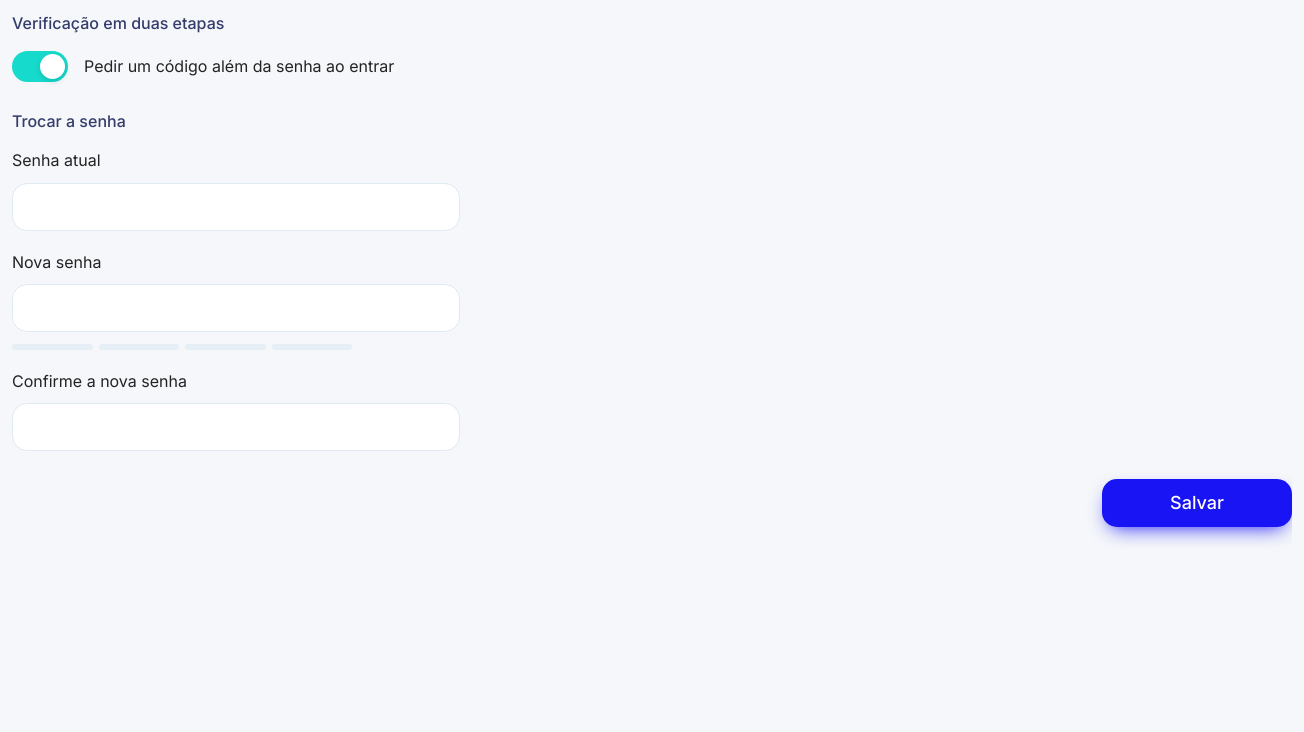
it: troca aceita apaga os campos e confirma
Type "antiga1" into the password field labelled "Senha atual" at (236, 207), box [12,183,460,231]
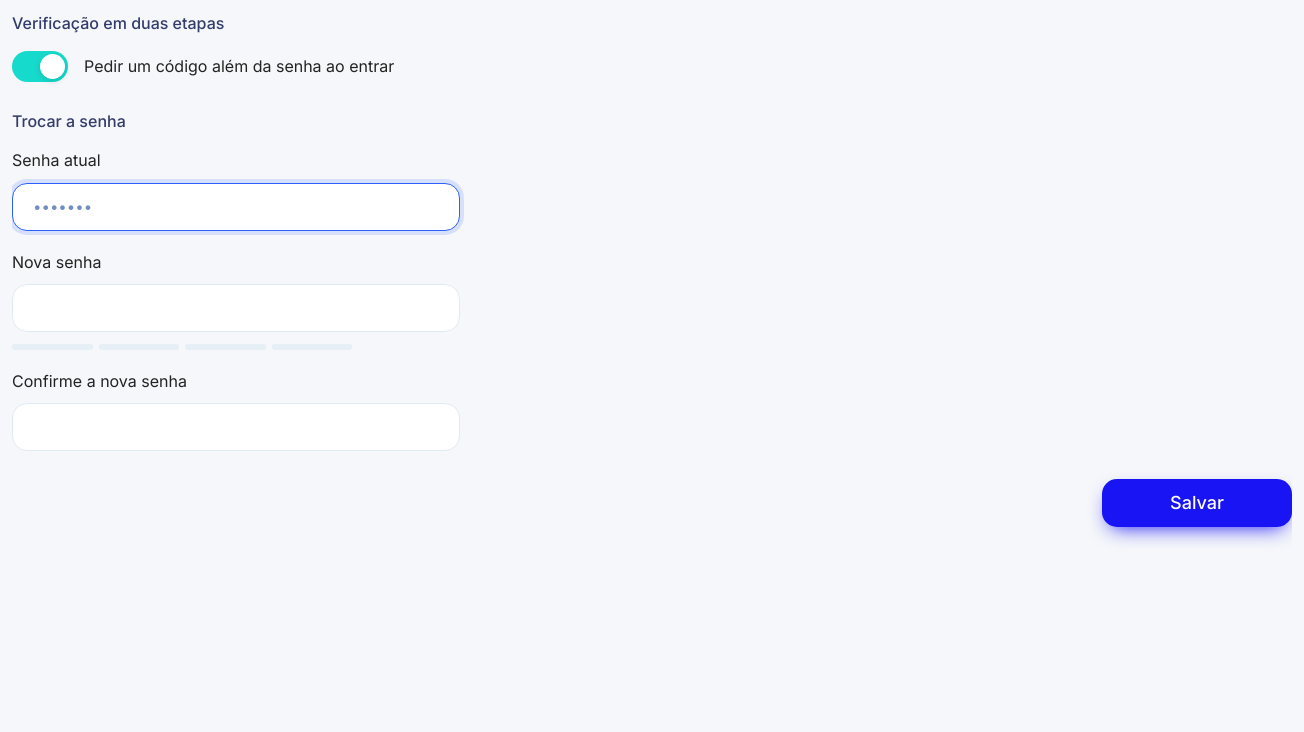
Type "Casaverde1" into the password field labelled "Nova senha" at (236, 308), box [12,284,460,332]
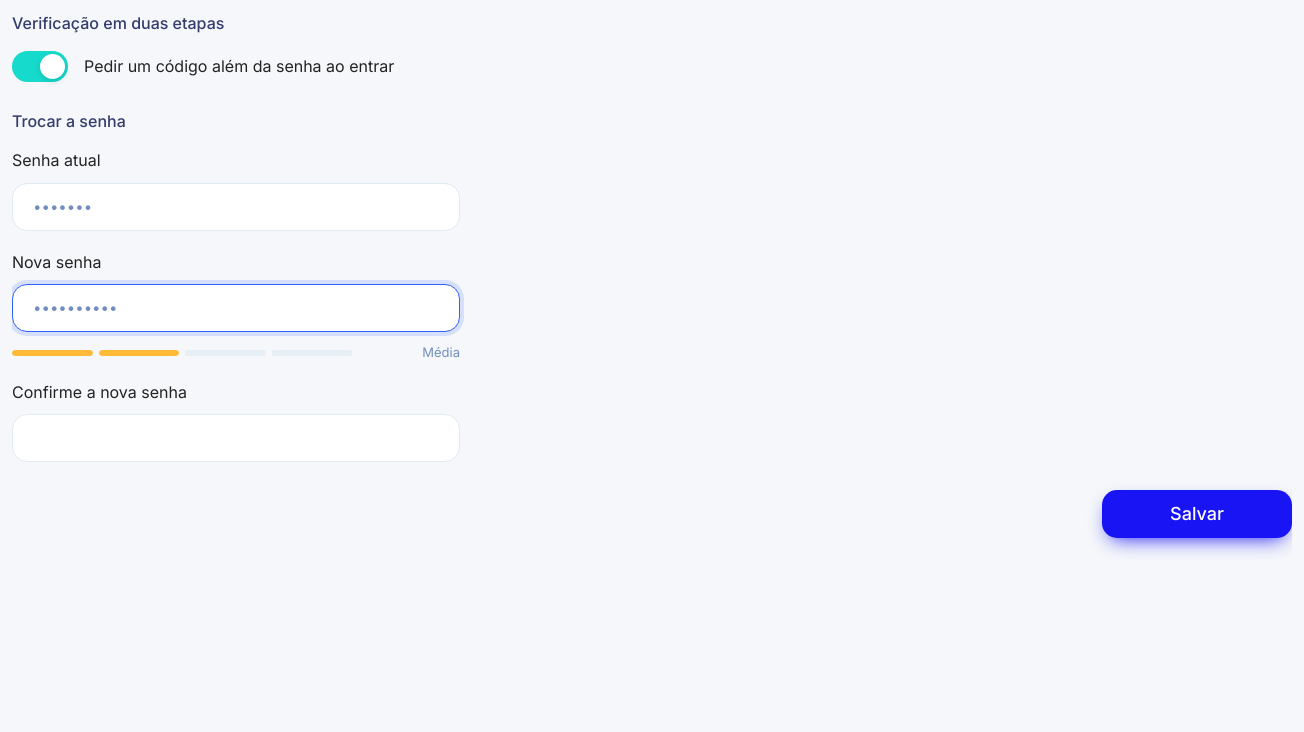
Type "Casaverde1" into the password field labelled "Confirme a nova senha" at (236, 438), box [12,414,460,462]
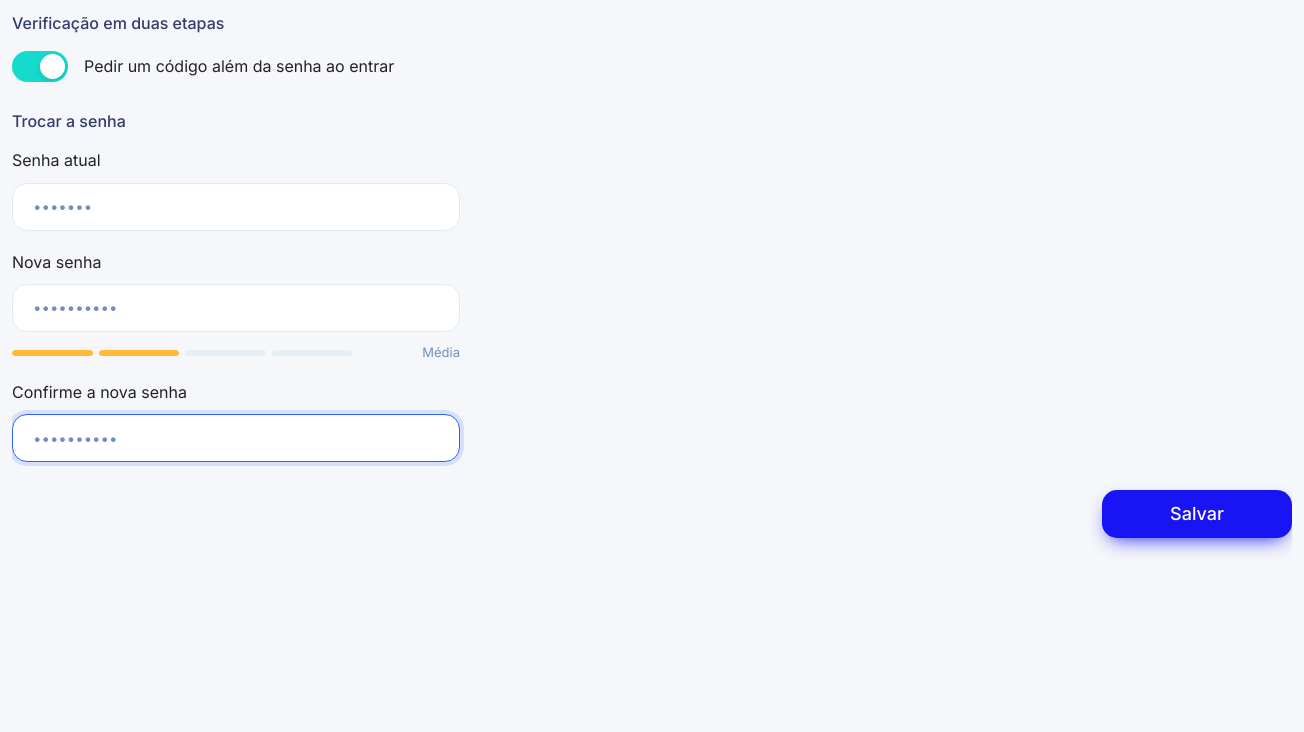
Click the button "Salvar" at (1197, 514), box [1102,490,1292,538]
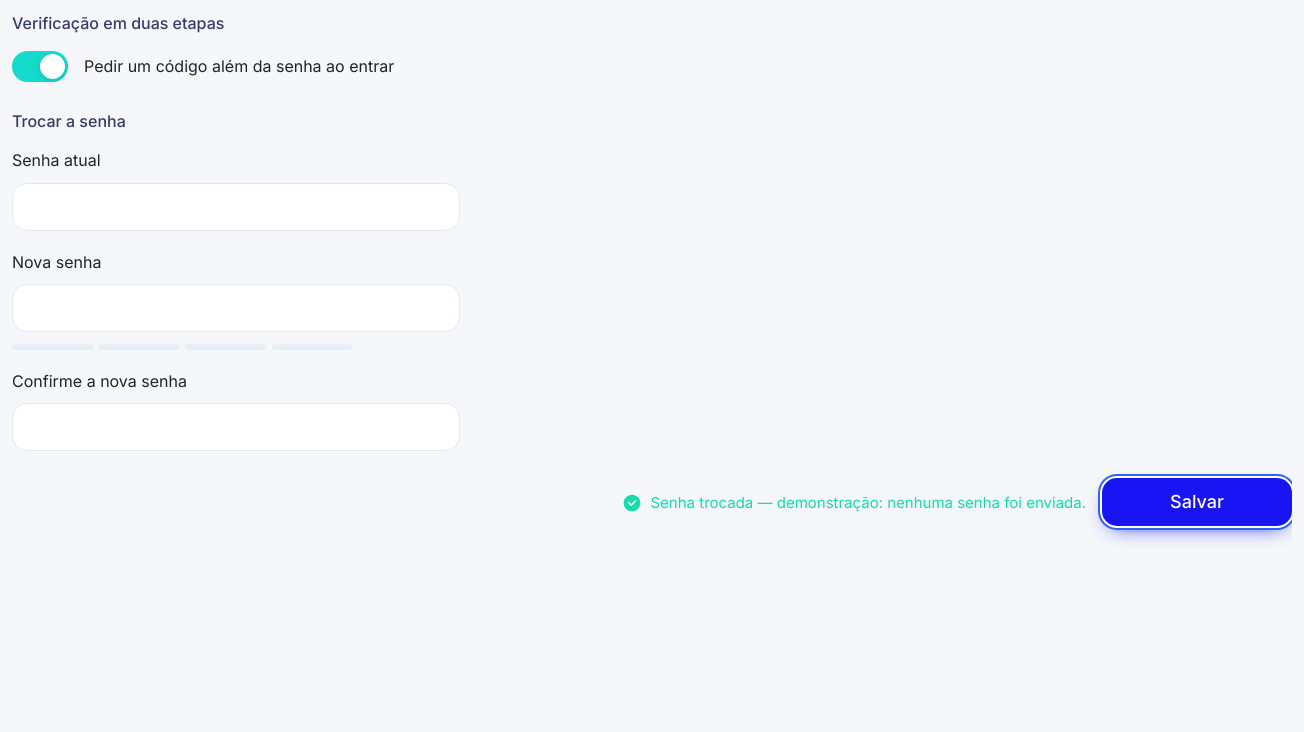
Check: the message shows "Senha trocada", box [650,493,1086,512]
Check: the password field labelled "Nova senha" is empty, box [12,284,460,332]
